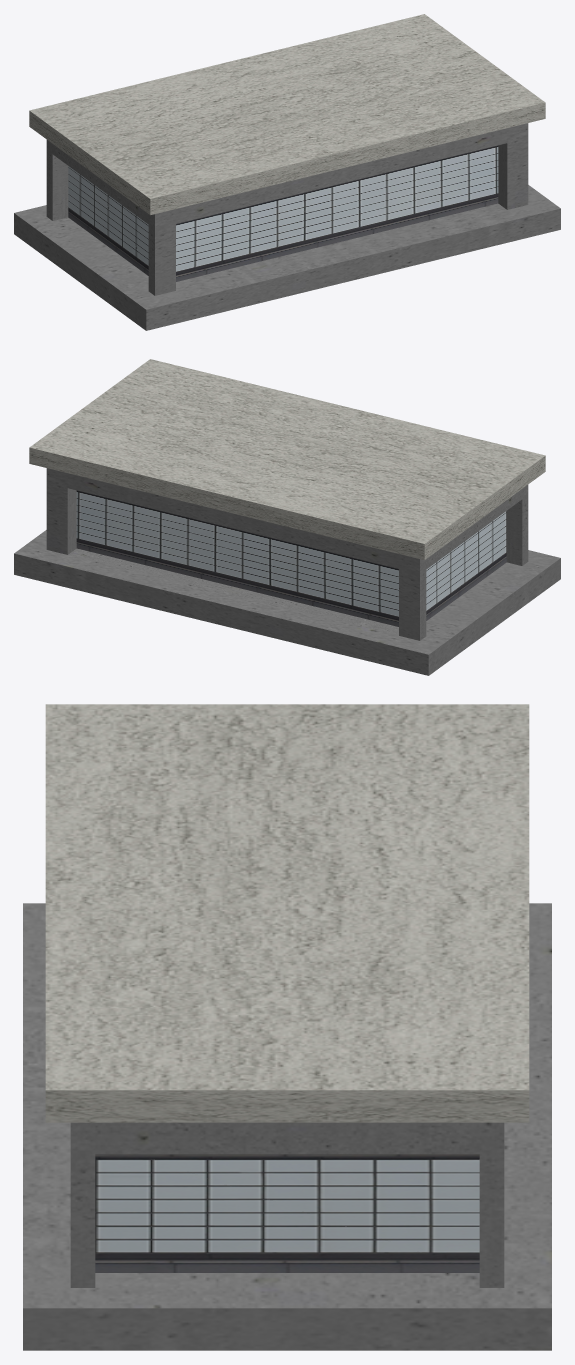
Rendered from roof addon12.FBX.
The picture shows the model from 3 angles, top to bottom: view 1: azimuth 30°, elevation 25°; view 2: azimuth 150°, elevation 25°; view 3: azimuth 270°, elevation 25°; orthographic projection. The views are drawn at different scales.
Parts seen in each view (by area): view 1: roof addon12; view 2: roof addon12; view 3: roof addon12.
Boxes of the visible parts, box(x1,y1,x2,y2) form: roof addon12: box(14, 14, 560, 330); roof addon12: box(14, 359, 560, 675); roof addon12: box(23, 704, 551, 1350).
Size of the model in its own units: 14.31 by 4.13 by 7.9.
